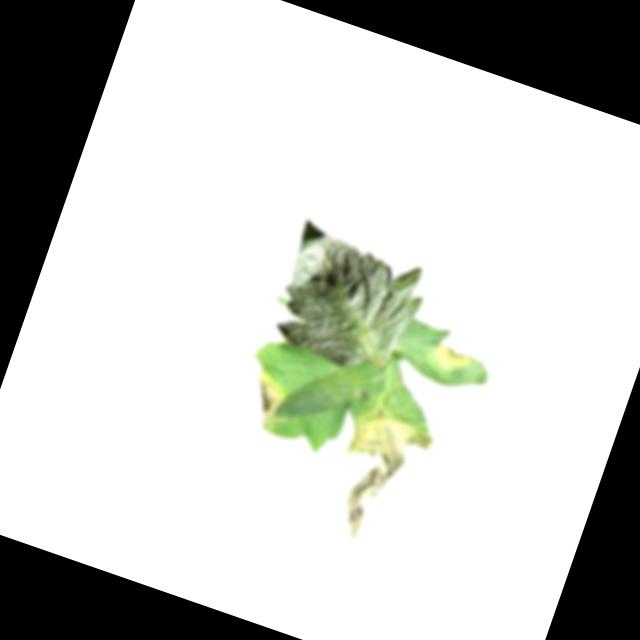Late_blight: (317, 403, 440, 557), (240, 370, 296, 434), (424, 334, 479, 382)
